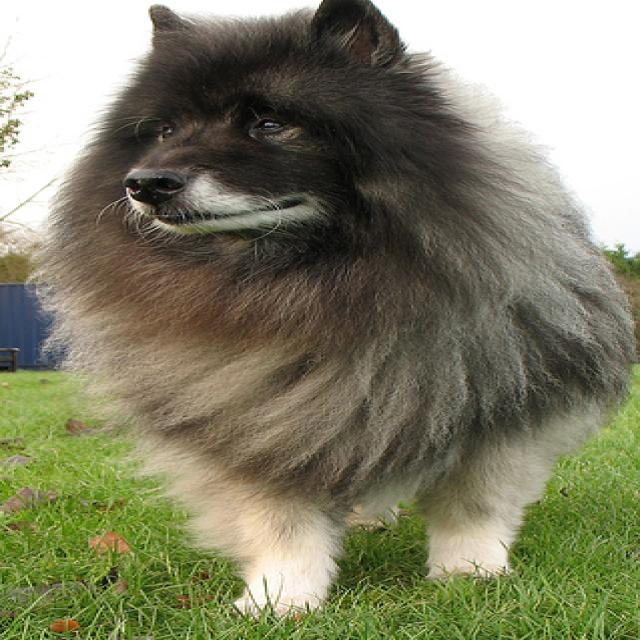dog-keeshond: (28, 1, 636, 612)
